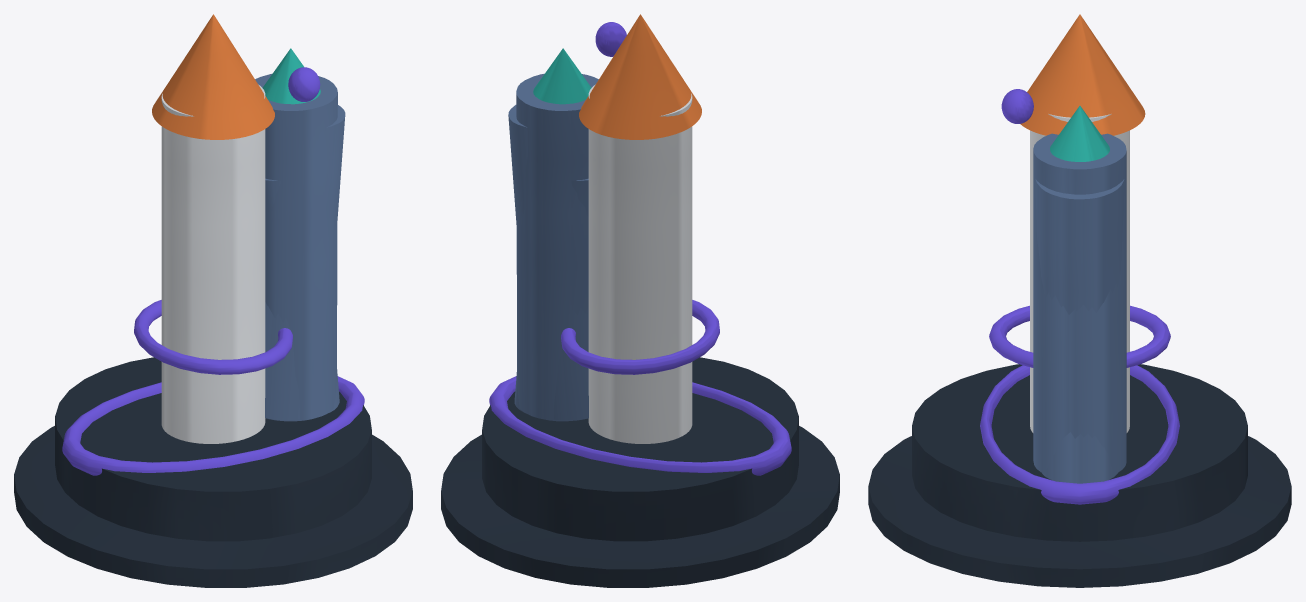
Rendered from 0535_岩石矿物图鉴_条带状铁建造.glb.
The picture shows the model from 3 angles, left to right: view 1: azimuth 30°, elevation 25°; view 2: azimuth 150°, elevation 25°; view 3: azimuth 270°, elevation 25°; orthographic projection.
Visible parts, largest first — view 1: card_0535; view 2: card_0535; view 3: card_0535.
Boxes of the visible parts, <box> form: card_0535: <box>14,14,412,587</box>; card_0535: <box>441,14,839,587</box>; card_0535: <box>868,14,1291,587</box>.
Bounding box in the file's own units: 0.7289 × 1 × 0.7817.
